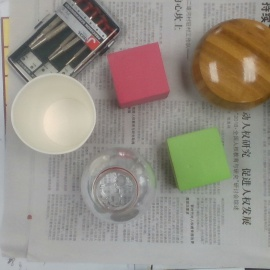bottle: (79, 146, 156, 225)
chess: (191, 18, 270, 110)
cup: (10, 73, 96, 156)
